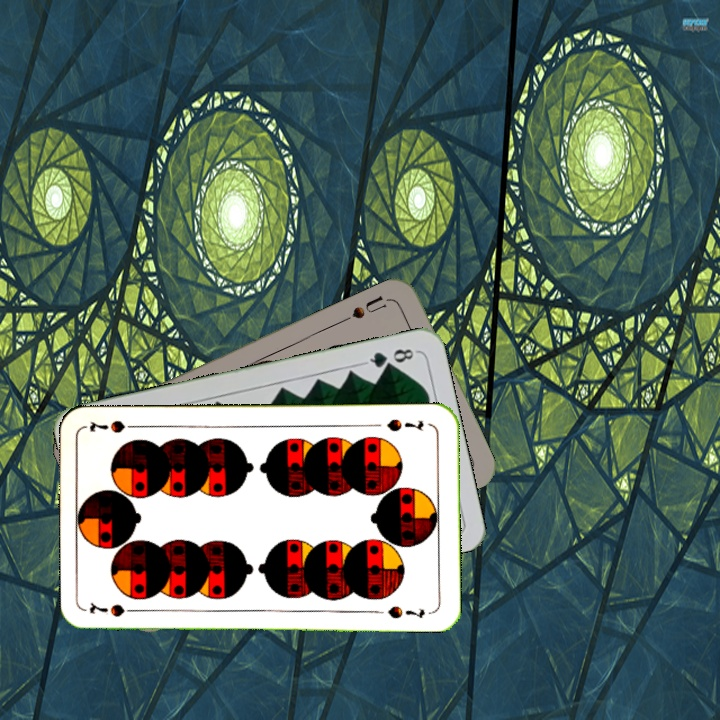G8: (361, 344, 419, 371)
S7: (85, 599, 144, 620), (383, 414, 426, 434)
SU: (338, 291, 395, 325)
